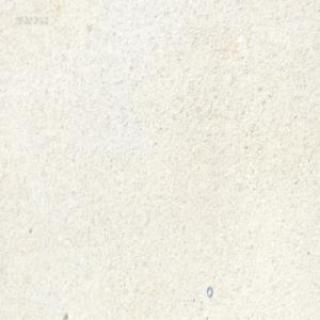Washertrack_idkeyframe: (205, 284, 212, 297)
